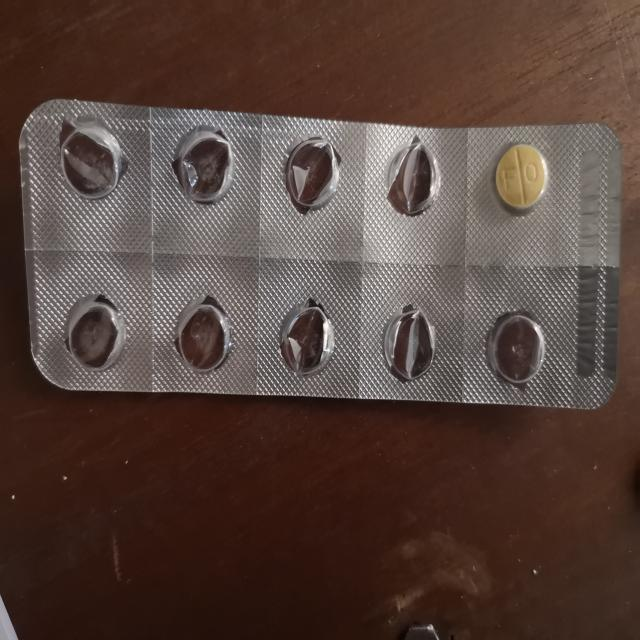Empty: (49, 117, 133, 205), (165, 117, 242, 210), (52, 285, 128, 376), (480, 297, 552, 391), (162, 286, 236, 376), (272, 130, 348, 212), (271, 290, 340, 378), (380, 134, 450, 220), (376, 295, 439, 389)
Pill: (486, 141, 556, 218)
